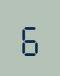six: (19, 20, 39, 56)
